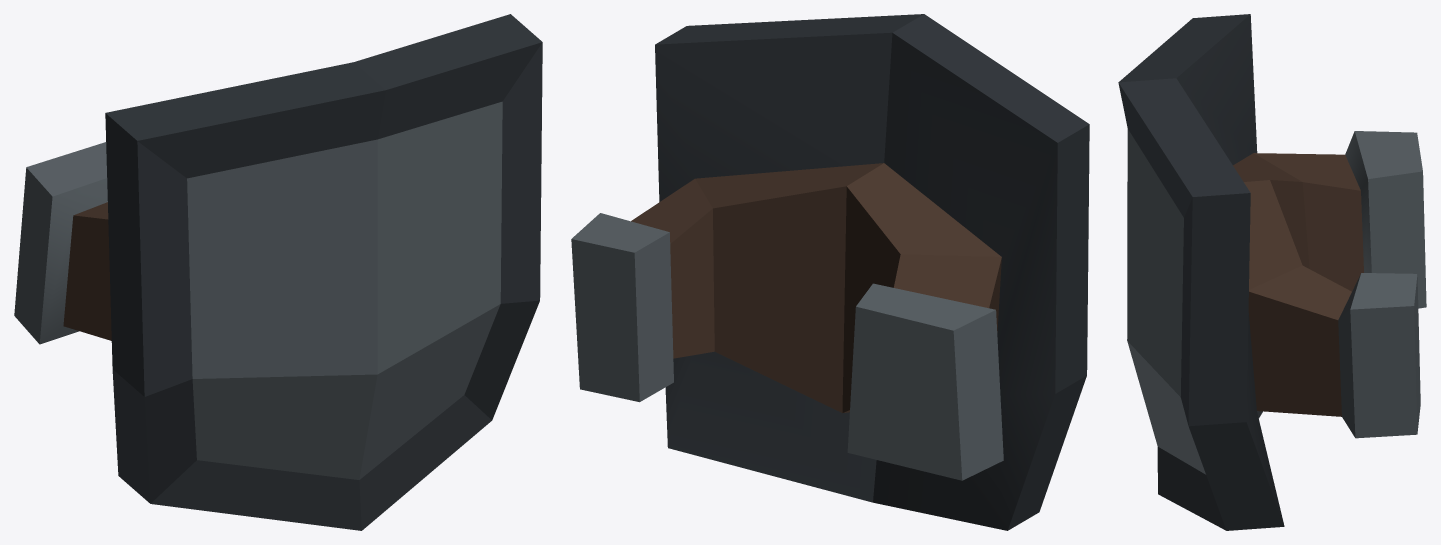
File: Chr_KneeAttachLeft_10_Static.fbx
3 views of the same model, side by side, from view 1: azimuth 30°, elevation 25°; view 2: azimuth 150°, elevation 25°; view 3: azimuth 270°, elevation 25° (orthographic). The views are drawn at different scales.
Parts seen in each view (by area): view 1: Chr_KneeAttachLeft_10_Static; view 2: Chr_KneeAttachLeft_10_Static; view 3: Chr_KneeAttachLeft_10_Static.
Boxes of the visible parts, x1=… form: Chr_KneeAttachLeft_10_Static: x1=14, y1=14, x2=542, y2=530; Chr_KneeAttachLeft_10_Static: x1=571, y1=14, x2=1089, y2=530; Chr_KneeAttachLeft_10_Static: x1=1118, y1=14, x2=1426, y2=530.
Size of the model in its own units: 0.1513 by 0.1621 by 0.1086.
